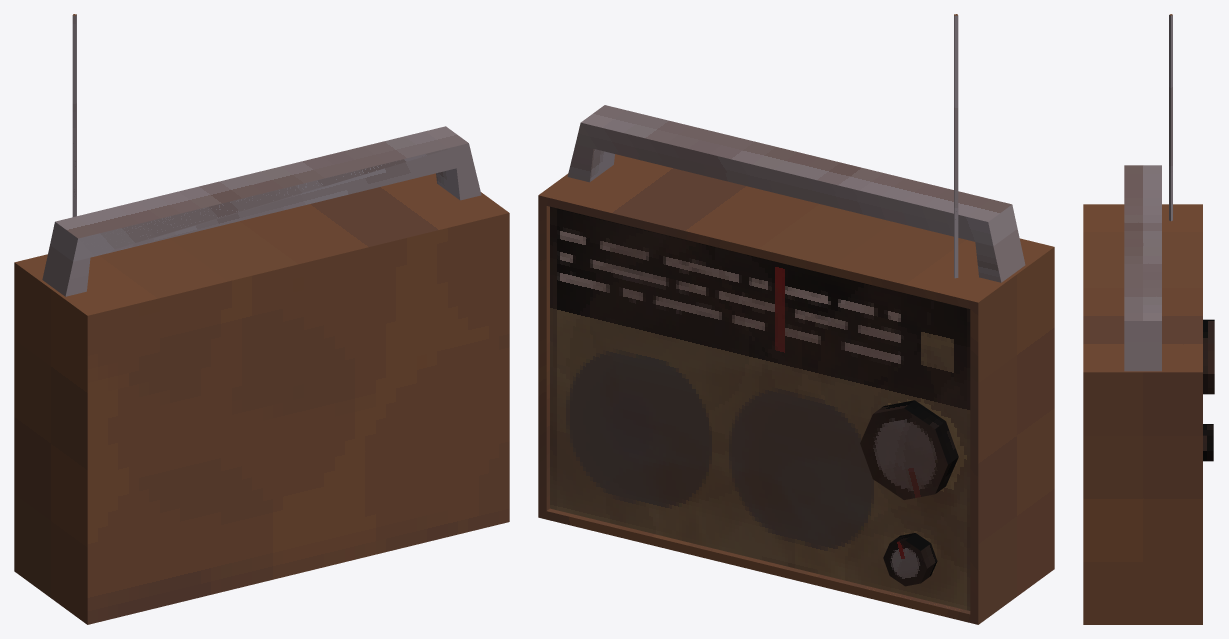
The model's file is radio.glb.
The picture shows the model from 3 angles, left to right: view 1: azimuth 30°, elevation 25°; view 2: azimuth 150°, elevation 25°; view 3: azimuth 270°, elevation 25°; orthographic projection. The views are drawn at different scales.
Parts seen in each view (by area): view 1: Cylinder.002; view 2: Cylinder.002; view 3: Cylinder.002.
Boxes of the visible parts, bbox=[...] form: Cylinder.002: bbox=[14, 14, 509, 624]; Cylinder.002: bbox=[538, 14, 1054, 624]; Cylinder.002: bbox=[1083, 14, 1214, 624].
Bounding box in the file's own units: 0.4 × 0.508 × 0.1317.
Materials: 1 (1 with a texture image).
